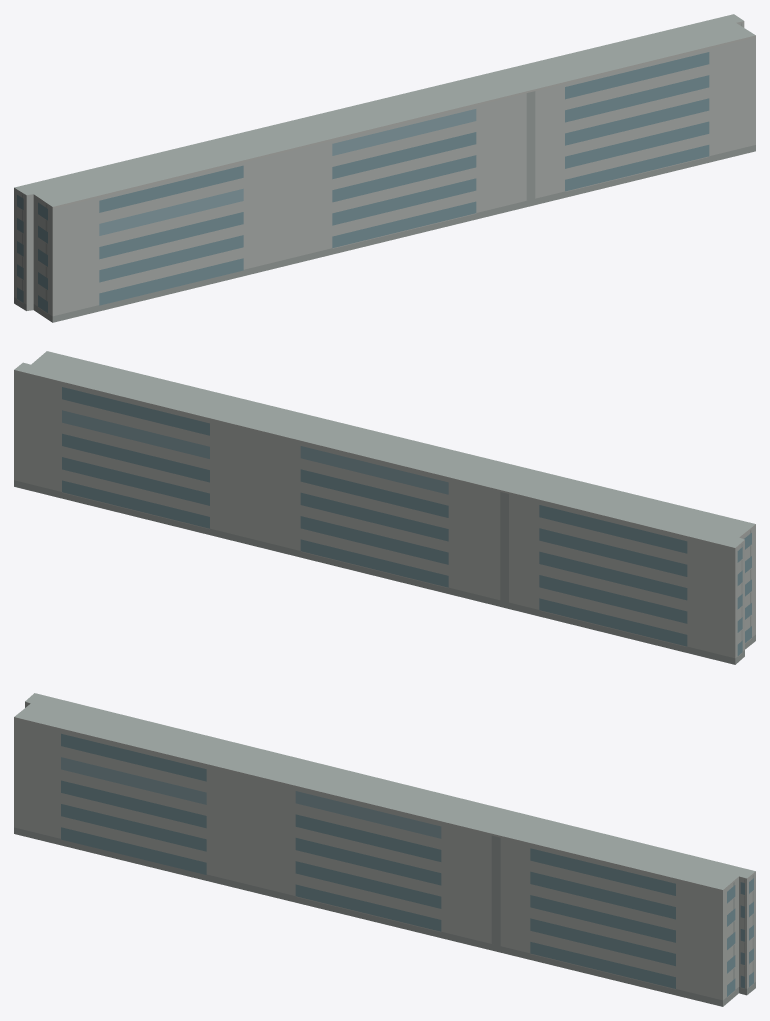
File: survey-upis-32459270.glb
The picture shows the model from 3 angles, top to bottom: view 1: azimuth 30°, elevation 25°; view 2: azimuth 150°, elevation 25°; view 3: azimuth 330°, elevation 25°; orthographic projection.
Parts seen in each view (by area): view 1: survey-upis-32459270.tmp; view 2: survey-upis-32459270.tmp; view 3: survey-upis-32459270.tmp.
Part boxes in pixels (bbox=[...]): survey-upis-32459270.tmp: bbox=[14, 14, 755, 322]; survey-upis-32459270.tmp: bbox=[14, 351, 755, 664]; survey-upis-32459270.tmp: bbox=[14, 693, 755, 1006].
Size of the model in its own units: 98.92 by 15.25 by 7.07.
